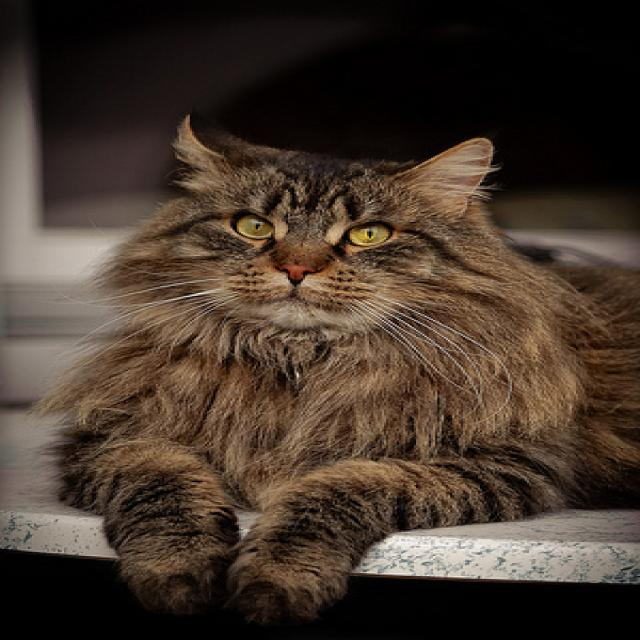Maine Coon: (47, 107, 640, 624)
